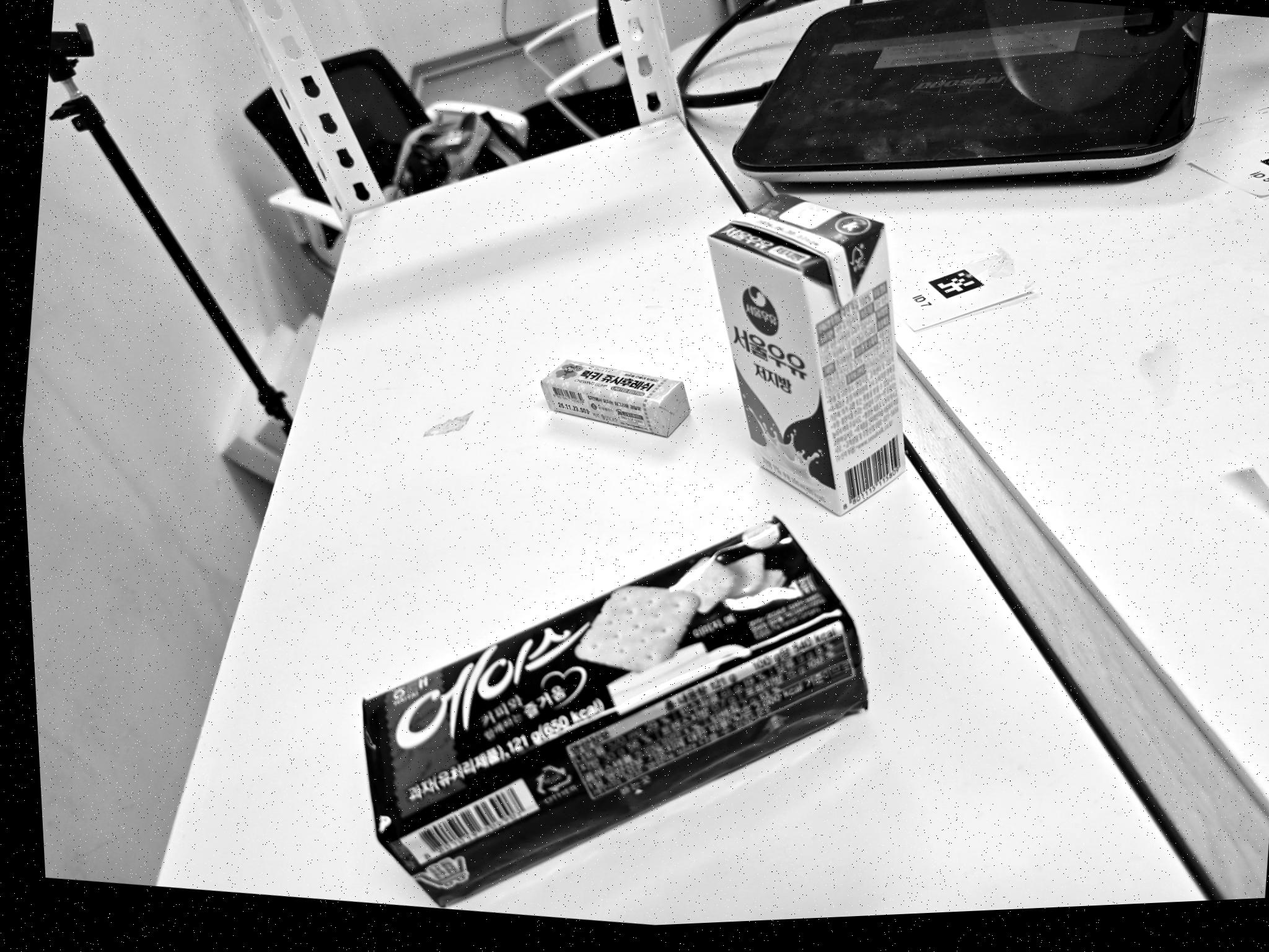cracker_ace: (363, 518, 867, 905)
gum_yellow: (541, 360, 688, 436)
milk_blue: (708, 195, 904, 515)
